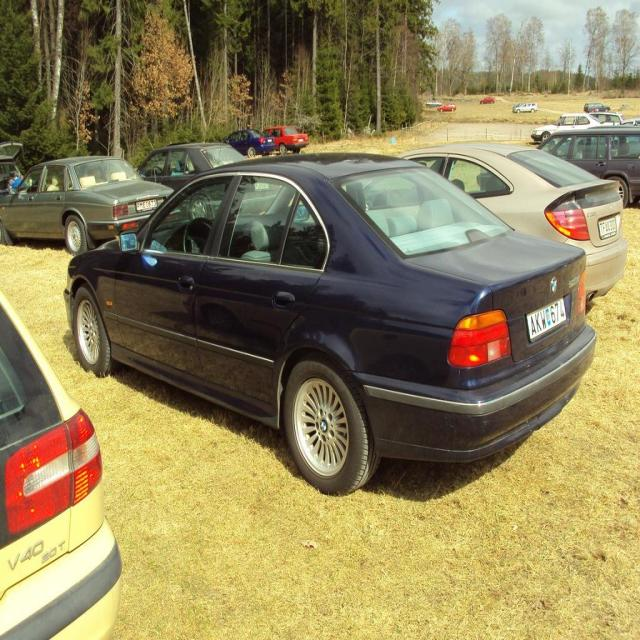car: (41, 145, 602, 501), (511, 100, 536, 112), (437, 103, 456, 112), (480, 95, 492, 103), (425, 99, 440, 104)
